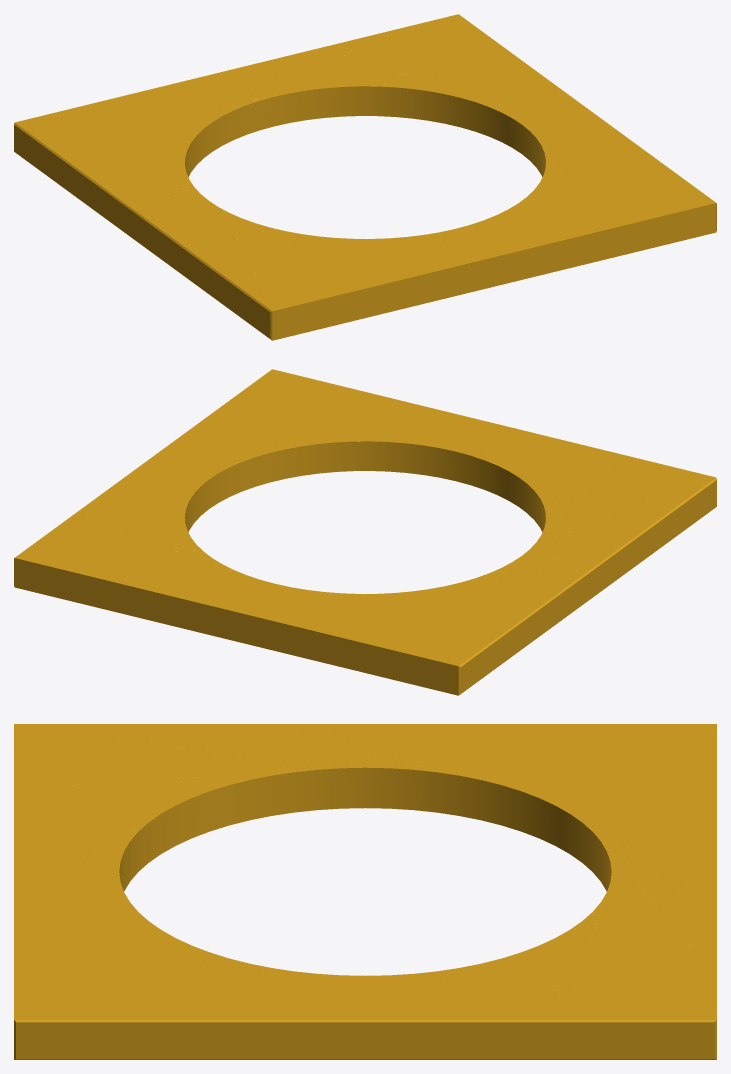
File: takoz-mtb-210-ii-bottom-buffer-02.glb
3 views of the same model, one above another, from view 1: azimuth 30°, elevation 25°; view 2: azimuth 150°, elevation 25°; view 3: azimuth 270°, elevation 25° (orthographic). The views are drawn at different scales.
Parts seen in each view (by area): view 1: body; view 2: body; view 3: body.
Part boxes in pixels (left/top/right/bottom): body: left=14, top=14, right=716, bottom=340; body: left=14, top=369, right=716, bottom=695; body: left=14, top=724, right=716, bottom=1059.
Bounding box in the file's own units: 0.347 × 0.022 × 0.347.
